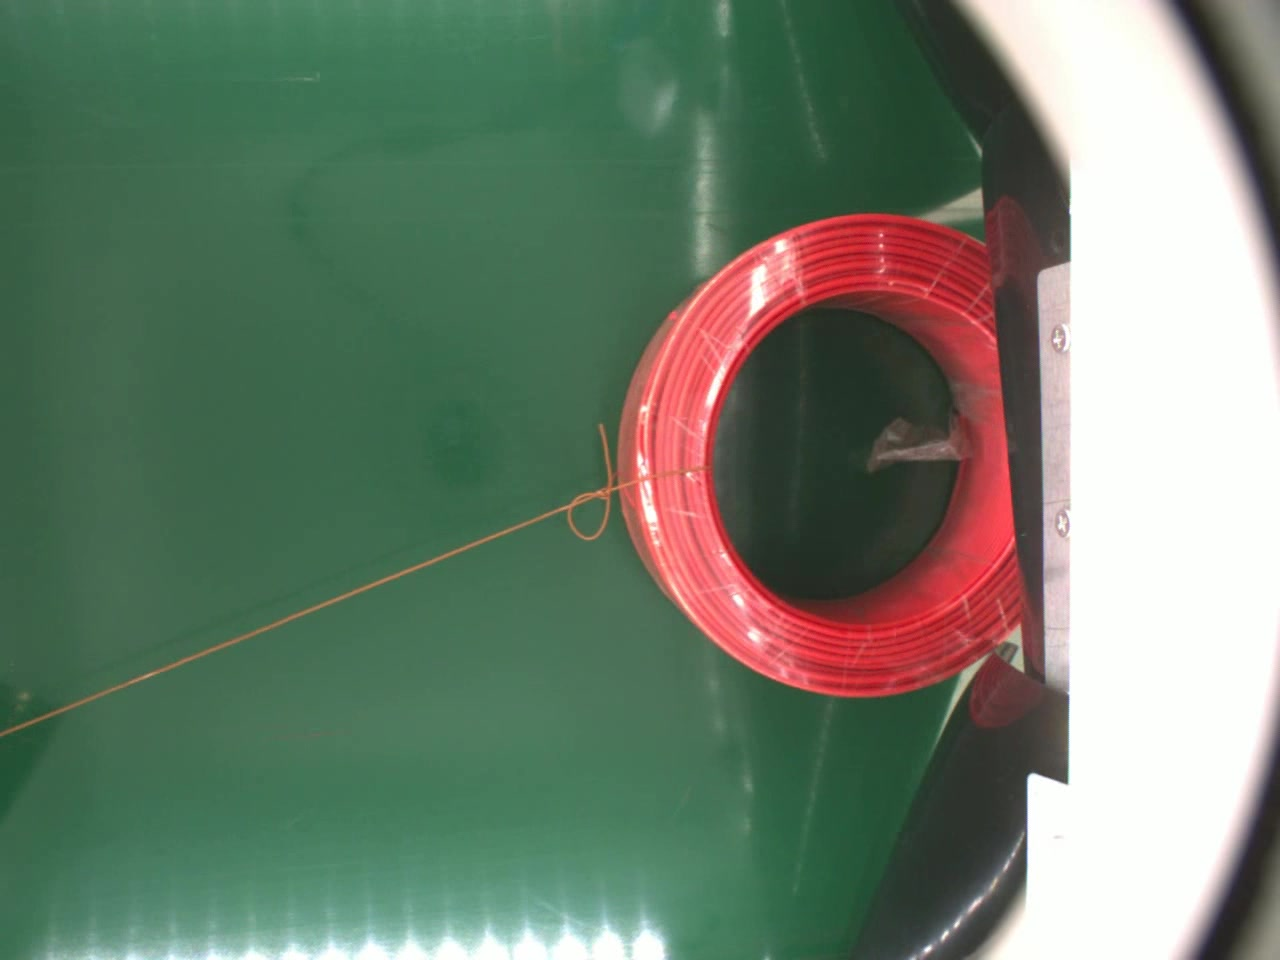red: (616, 213, 1019, 694)
